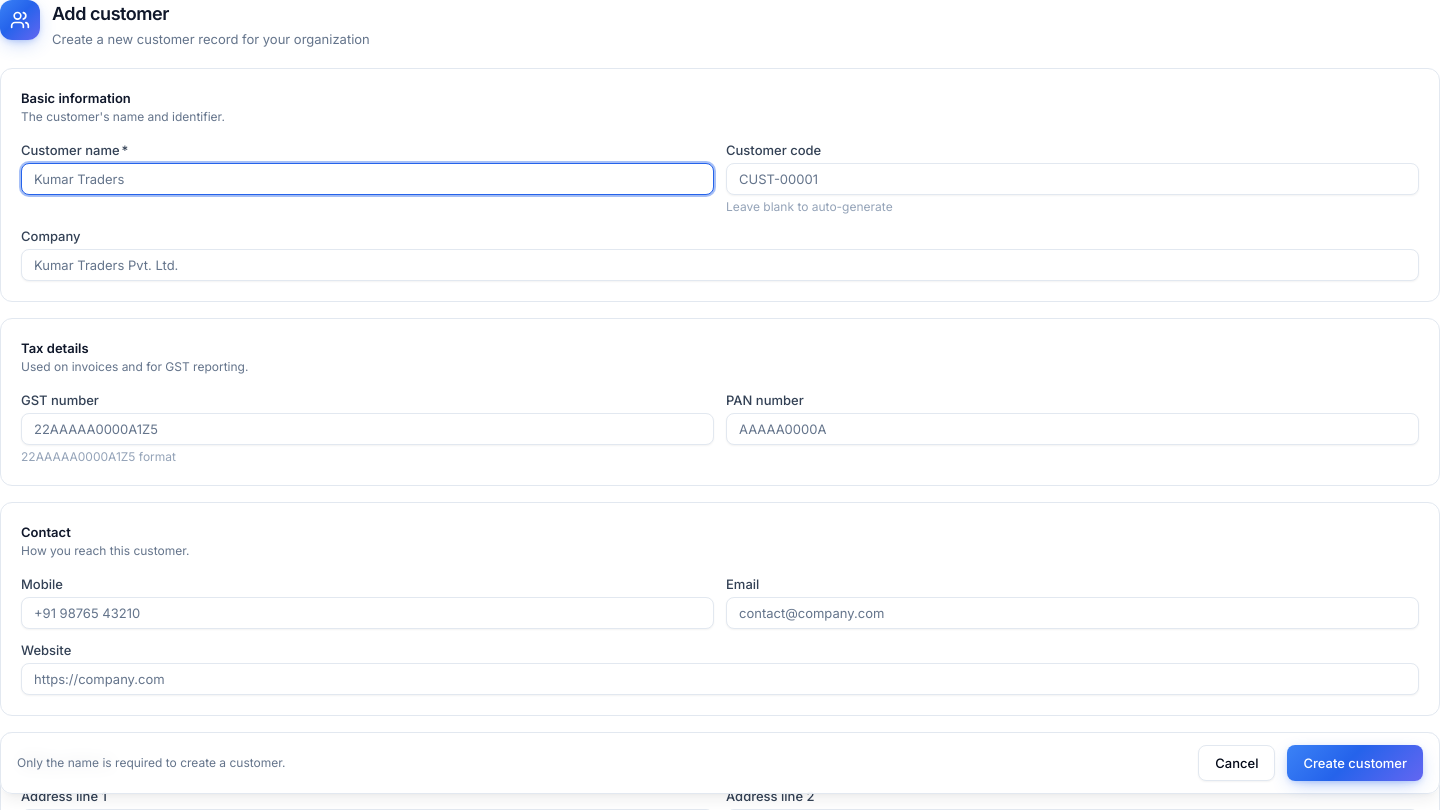
Test: CustomerForm (create) › shows a validation error and does not submit when the name is empty
Click the button "Create customer".
click(1355, 763)  # box [1288,745,1423,781]
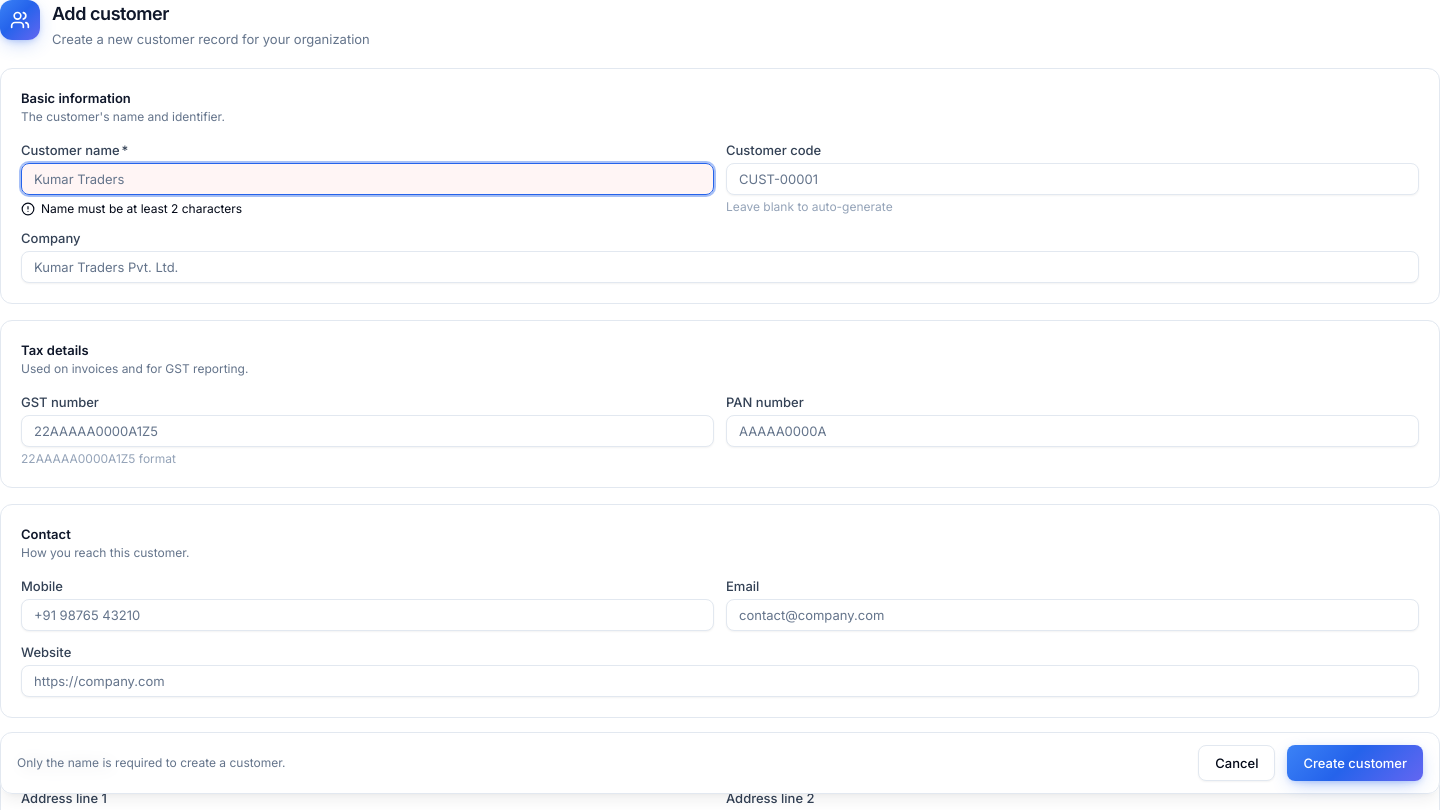
Expected: the text "Name must be at least 2 characters" is shown, [21,201,242,216]
